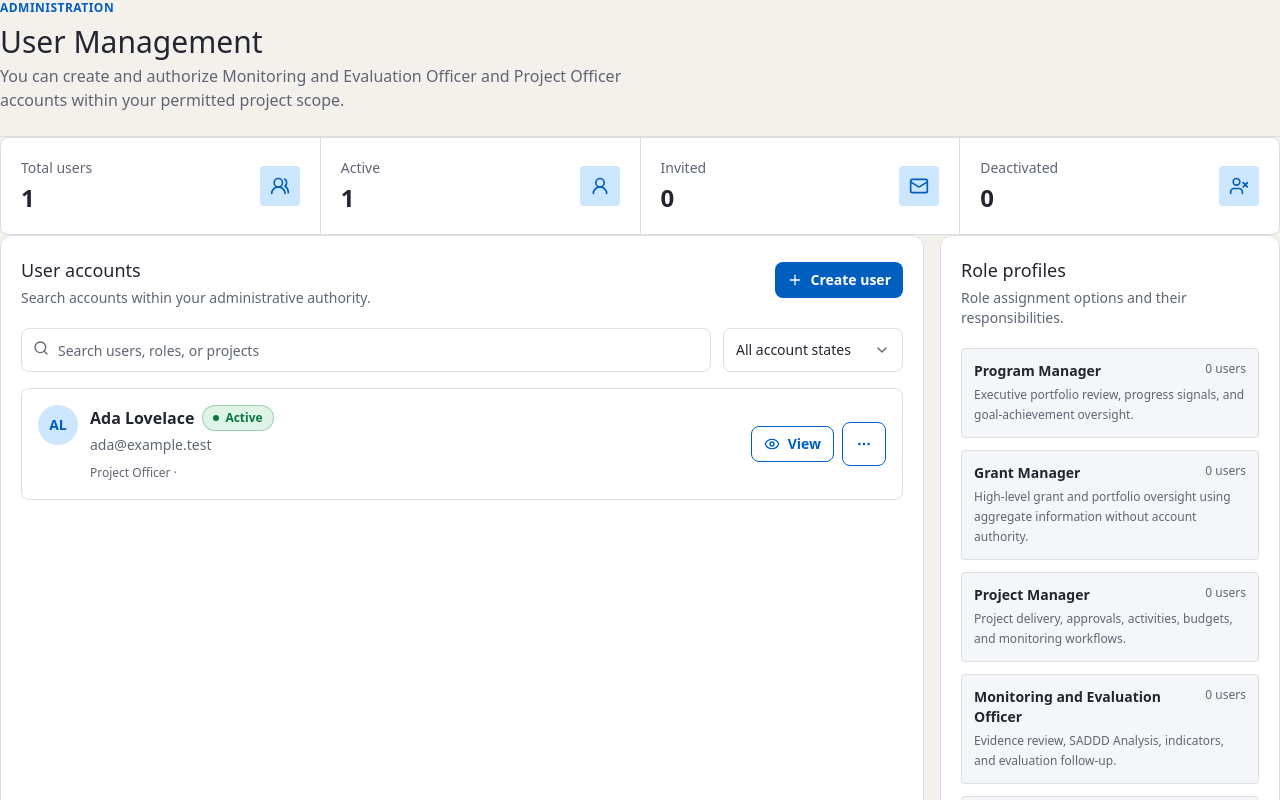
Test: user management: create user via existing Auth authorization › states that the person must already have signed up and removes the Edit Labels link
Step 1. Click the button "Create user" → (839, 280), box [774,262,903,298]
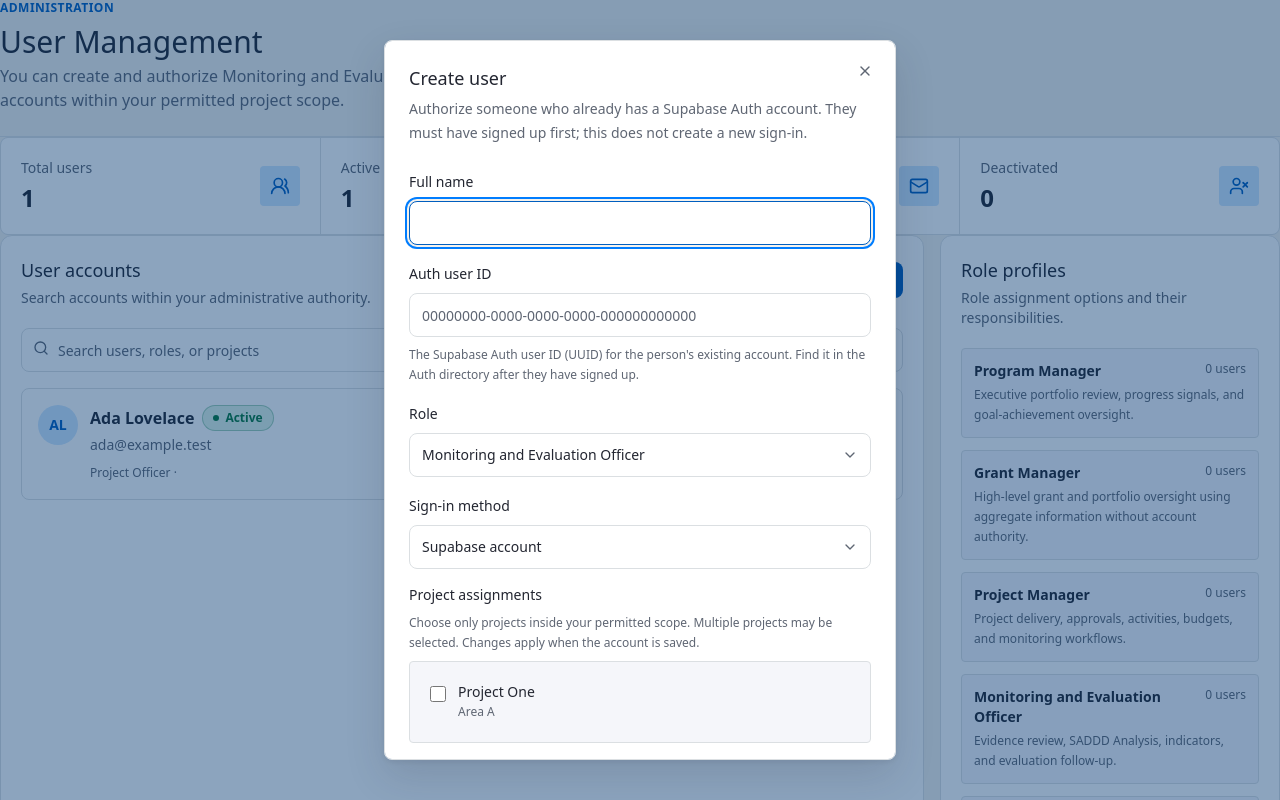
expect the text "does not create a new sign-in" is shown: met, box [409,99,856,142]
